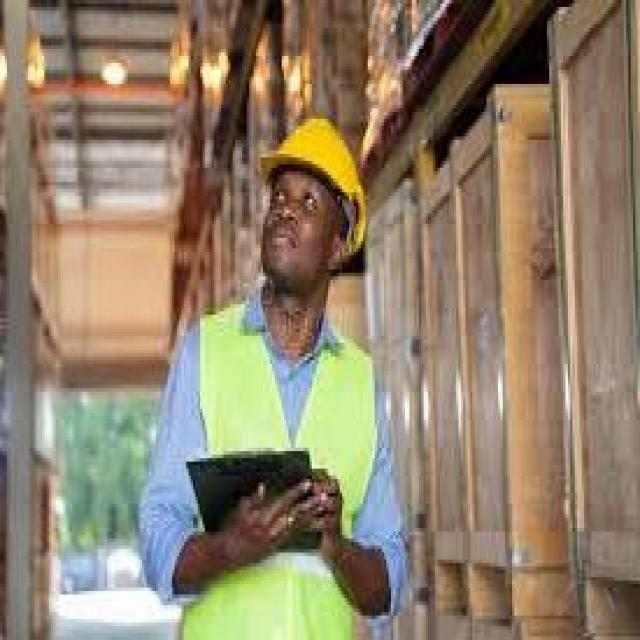Reflective-Jacket: (168, 301, 393, 640)
Safety-Helmet: (256, 109, 372, 248)
